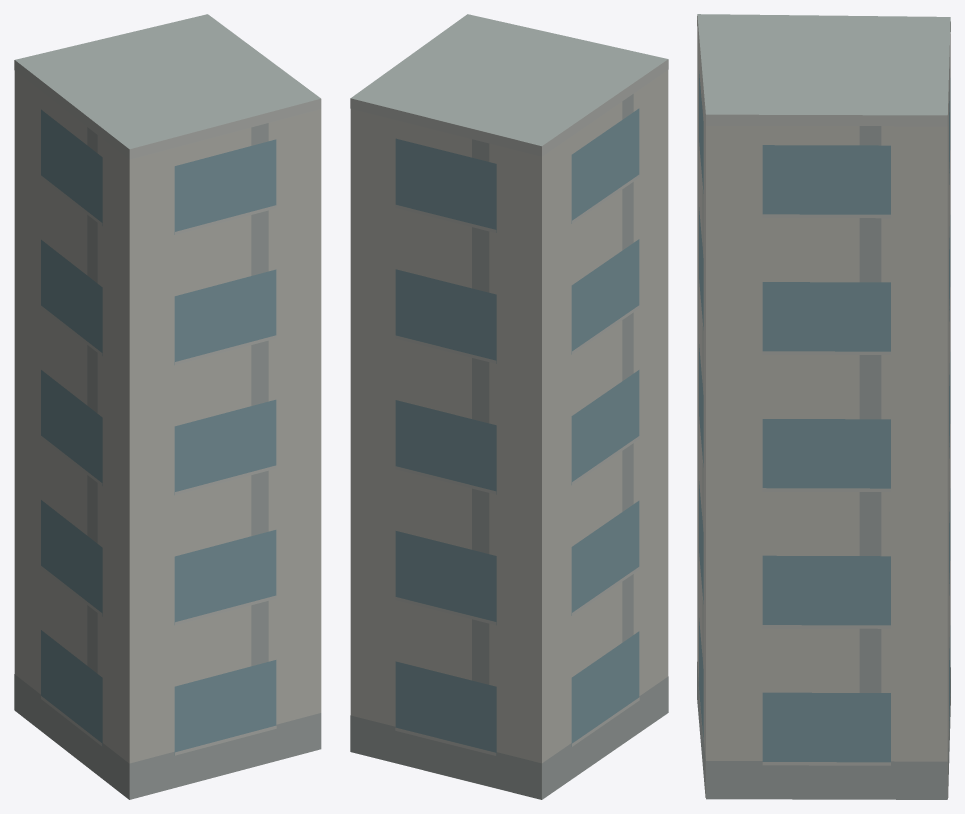
Rendered from survey-upis-32907016.glb.
3 renders of one model, left to right at view 1: azimuth 30°, elevation 25°; view 2: azimuth 150°, elevation 25°; view 3: azimuth 270°, elevation 25°, orthographic. The views are drawn at different scales.
Visible parts, largest first — view 1: survey-upis-32907016.tmp; view 2: survey-upis-32907016.tmp; view 3: survey-upis-32907016.tmp.
Part boxes in pixels (left/top/right/bottom): survey-upis-32907016.tmp: left=14, top=14, right=321, bottom=799; survey-upis-32907016.tmp: left=350, top=14, right=668, bottom=799; survey-upis-32907016.tmp: left=697, top=14, right=950, bottom=799.
Bounding box in the file's own units: 4.85 × 15.25 × 5.13.
